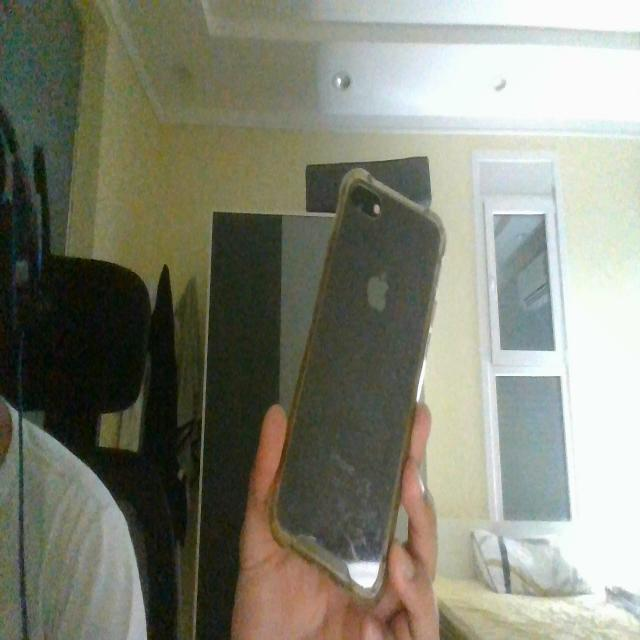Phone: (266, 168, 450, 604)
